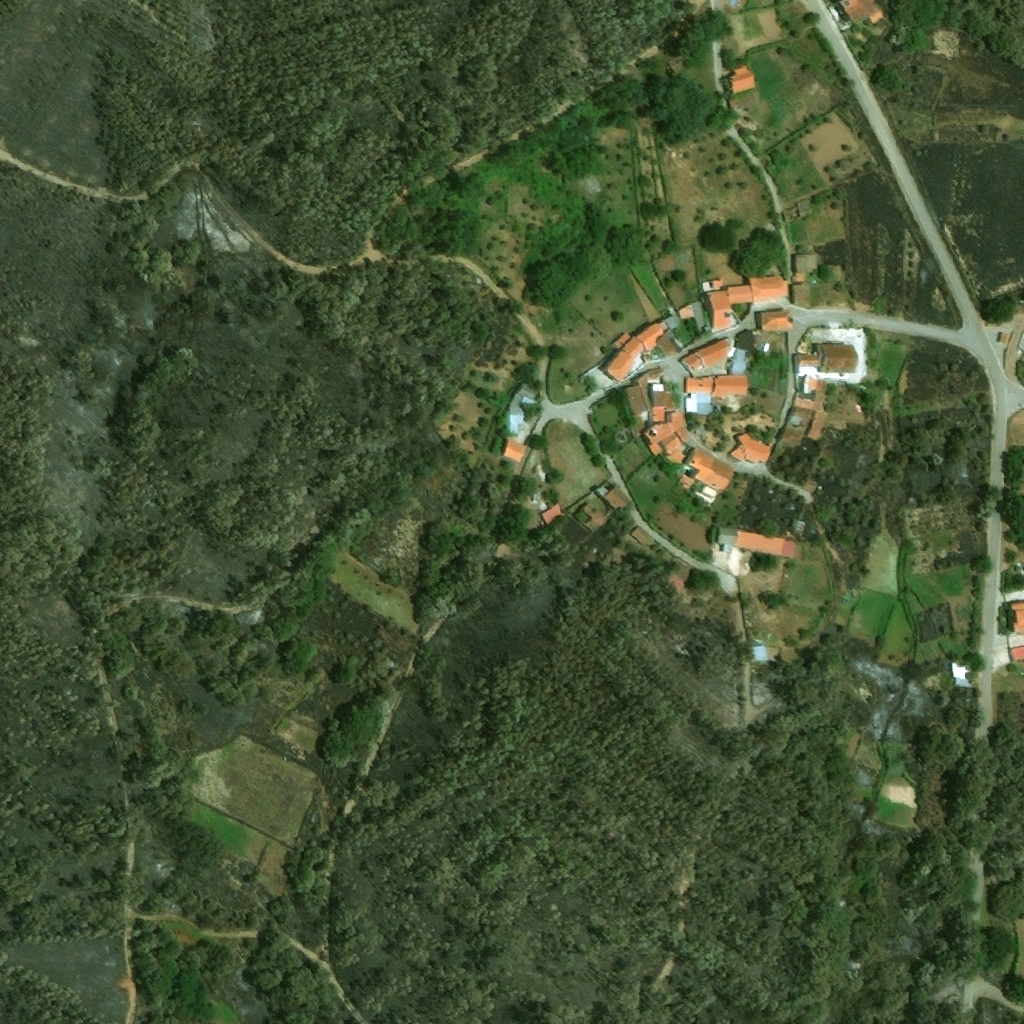0 no-damage: (643, 410, 695, 463), (687, 448, 733, 492), (735, 528, 797, 559), (506, 381, 537, 434), (602, 347, 638, 383), (659, 558, 693, 596), (729, 432, 770, 463), (693, 337, 734, 368), (635, 366, 664, 409), (838, 0, 884, 26), (819, 343, 859, 372), (683, 376, 713, 414), (749, 275, 788, 303), (705, 287, 731, 329), (791, 390, 829, 418), (595, 484, 632, 510), (726, 64, 756, 94), (634, 322, 663, 353), (678, 299, 706, 331), (580, 502, 609, 532), (622, 383, 646, 414), (715, 374, 747, 397), (781, 199, 811, 222), (502, 439, 529, 464), (760, 311, 792, 331), (677, 351, 703, 375), (540, 503, 565, 526), (621, 335, 644, 359), (805, 415, 826, 441), (730, 348, 750, 374), (727, 284, 751, 305), (656, 335, 678, 357), (651, 383, 672, 406), (747, 643, 770, 664), (694, 483, 718, 503), (780, 427, 801, 448), (630, 525, 651, 546), (792, 254, 817, 271), (795, 354, 817, 373), (715, 526, 737, 545), (791, 283, 809, 306), (807, 376, 831, 393), (790, 408, 813, 425), (950, 658, 967, 681), (667, 55, 690, 71), (735, 330, 753, 350), (664, 313, 682, 332), (760, 352, 778, 370), (802, 476, 820, 493), (676, 474, 693, 490), (612, 333, 629, 348), (996, 331, 1010, 346), (790, 270, 805, 282), (652, 406, 664, 421), (711, 277, 723, 290), (531, 491, 541, 503), (713, 434, 726, 443), (710, 403, 720, 414), (797, 244, 807, 254), (658, 320, 669, 329)
4 un-classified: (1012, 603, 1023, 632), (1009, 646, 1023, 663), (1015, 565, 1022, 571)
